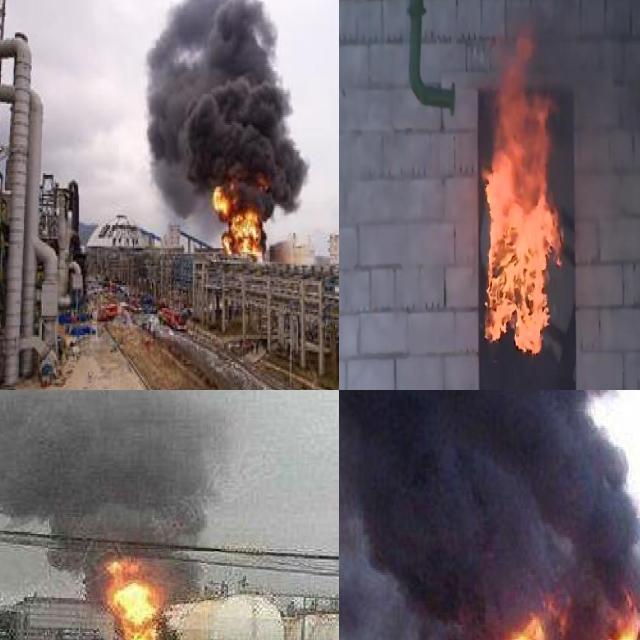fire: (482, 42, 564, 356), (103, 554, 163, 640), (214, 175, 264, 256), (507, 596, 559, 640), (598, 610, 638, 640)
smoke: (339, 390, 639, 617), (0, 390, 225, 558), (142, 0, 306, 217)
